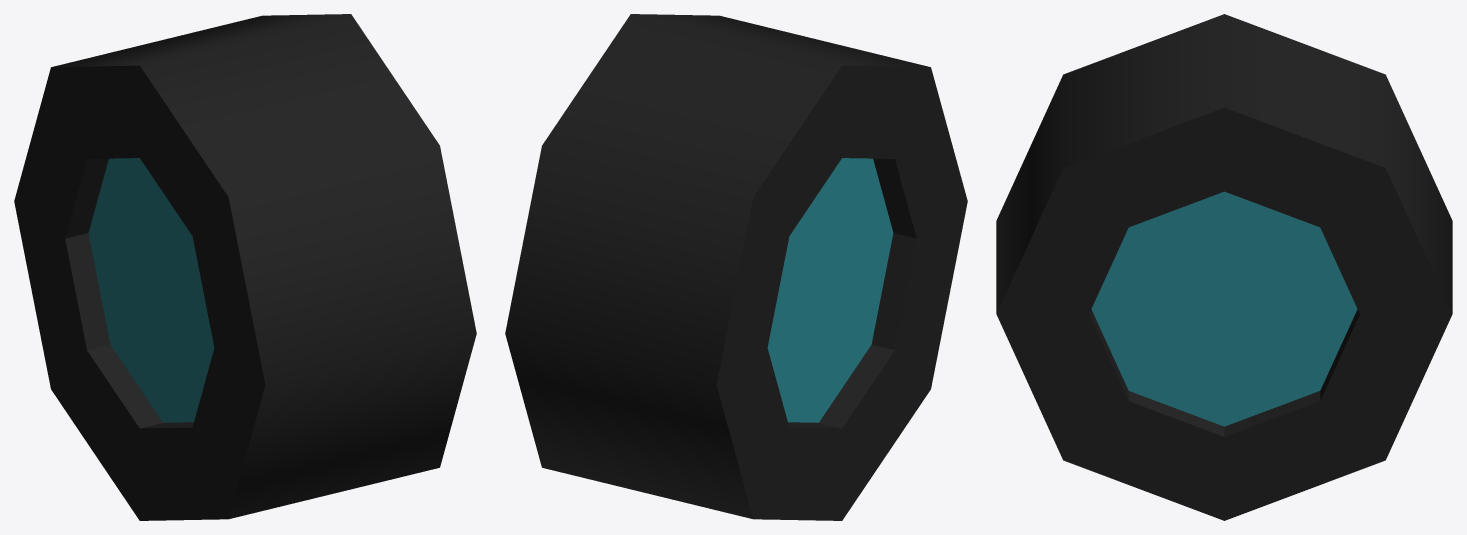
File: Gaming_Chair_Wheel.obj
The picture shows the model from 3 angles, left to right: view 1: azimuth 30°, elevation 25°; view 2: azimuth 150°, elevation 25°; view 3: azimuth 270°, elevation 25°; orthographic projection. The views are drawn at different scales.
Visible parts, largest first — view 1: Gaming_Chair_Wheel; view 2: Gaming_Chair_Wheel; view 3: Gaming_Chair_Wheel.
Part boxes in pixels (x1,y1,x2,y2): Gaming_Chair_Wheel: [14, 14, 476, 520]; Gaming_Chair_Wheel: [505, 14, 967, 520]; Gaming_Chair_Wheel: [996, 14, 1452, 520].
Size of the model in its own units: 0.0424 by 0.0872 by 0.0872.
